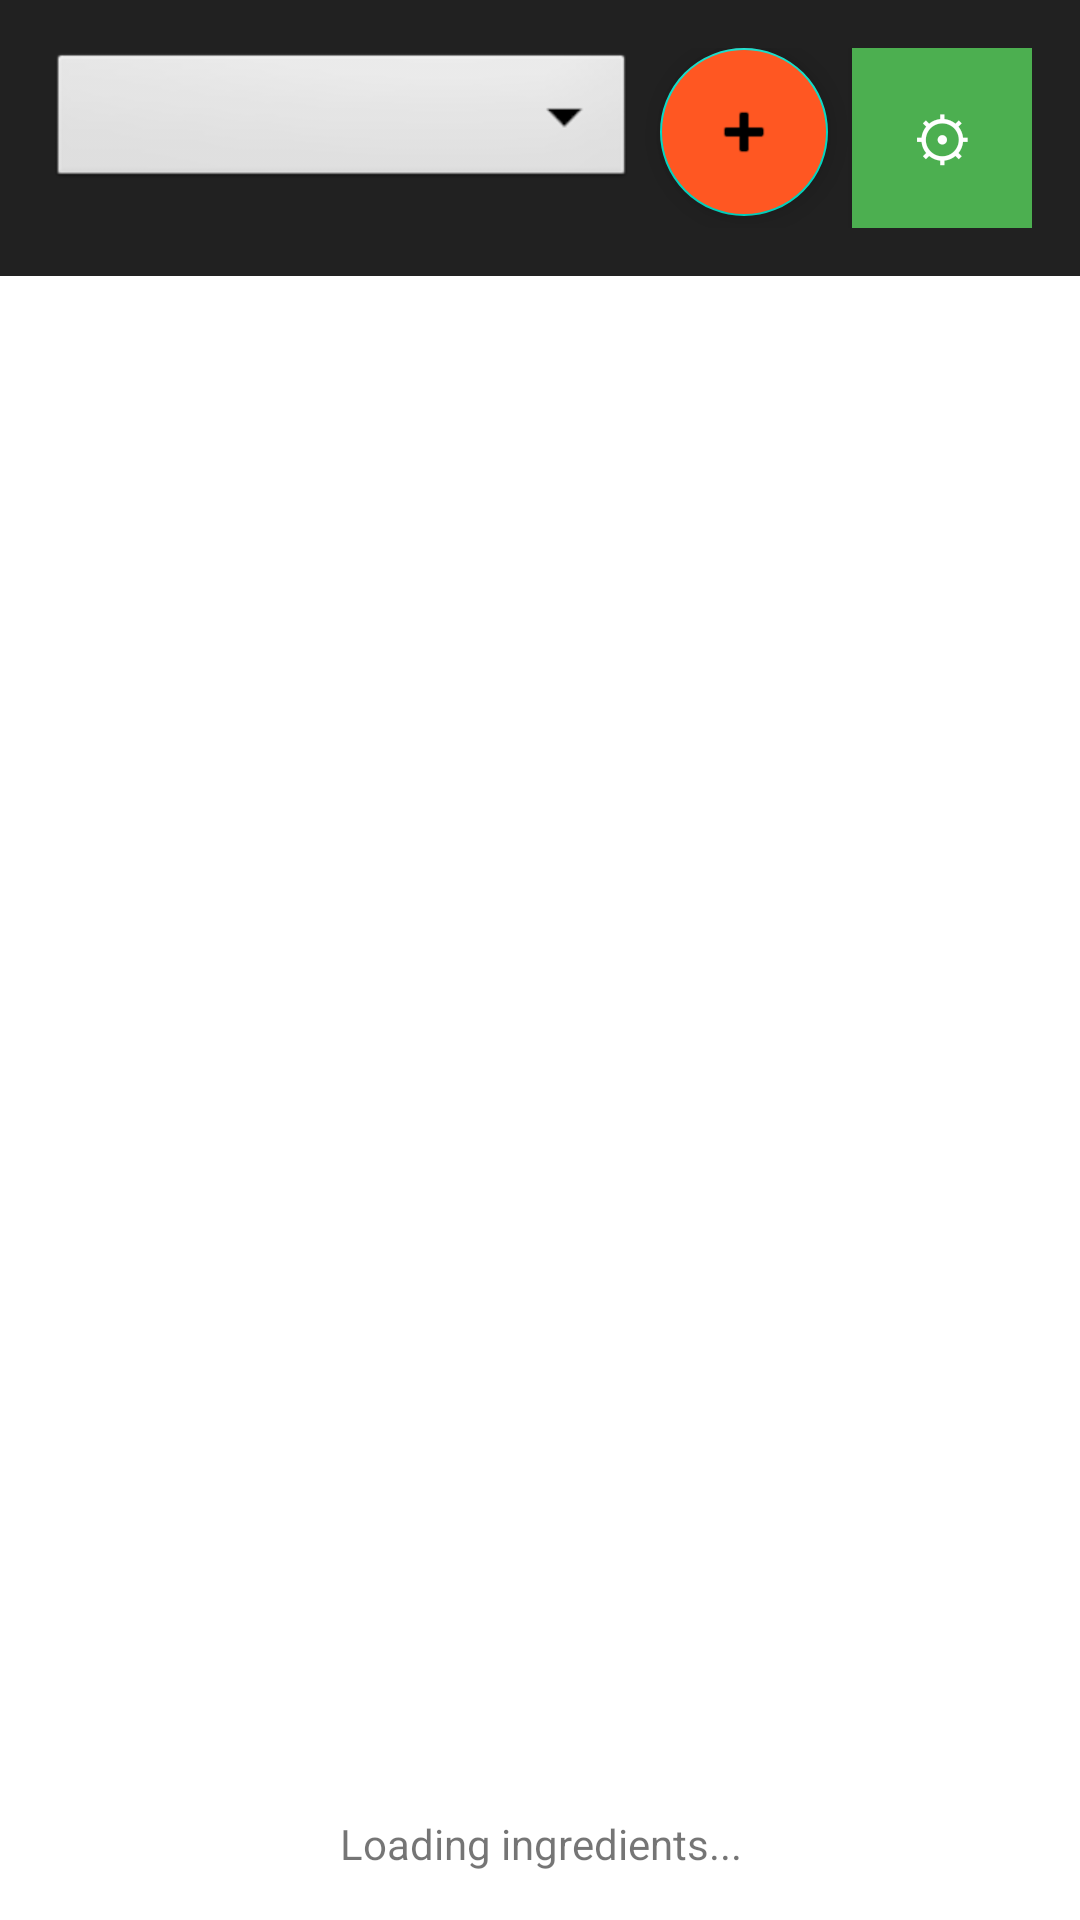

Locate icon controls on the screen. Image size 1080x1920, boxes as (x1, y1, x2, y2).
add: (660, 48, 828, 216)
